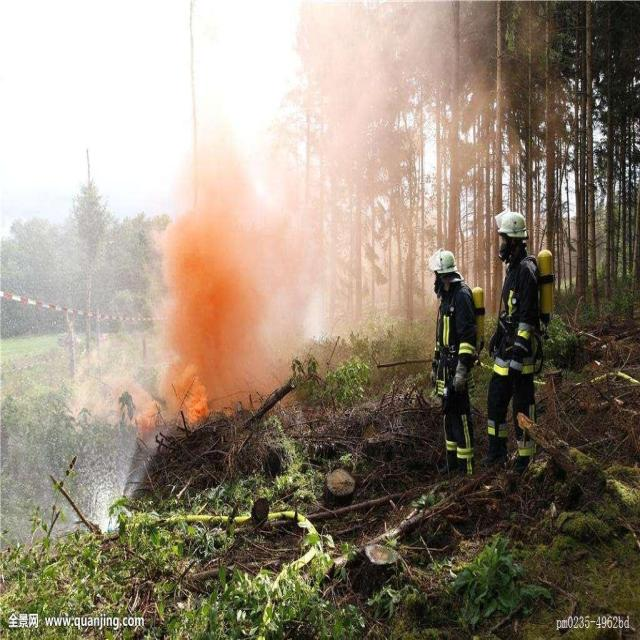fire: (148, 345, 217, 433)
other: (7, 289, 156, 325)
smoke: (172, 137, 310, 344)
